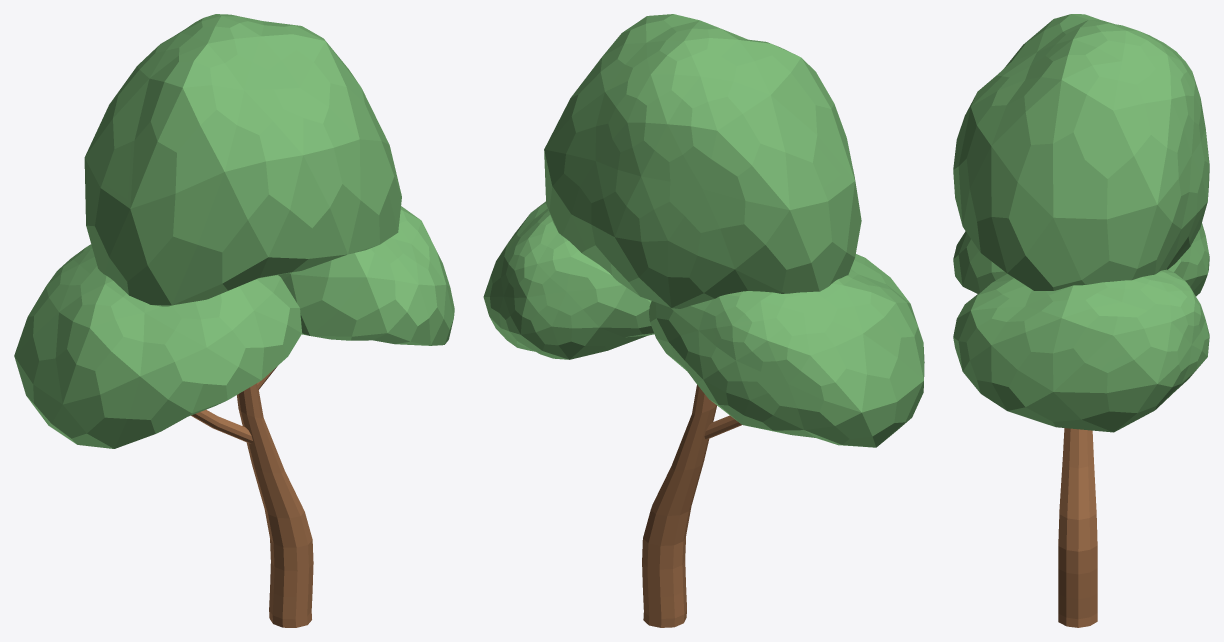
The model's file is Tree2.glb.
The picture shows the model from 3 angles, left to right: view 1: azimuth 30°, elevation 25°; view 2: azimuth 150°, elevation 25°; view 3: azimuth 270°, elevation 25°; orthographic projection. The views are drawn at different scales.
Visible parts, largest first — view 1: Tree2; view 2: Tree2; view 3: Tree2.
Part boxes in pixels (x1=…): Tree2: x1=14, y1=14, x2=454, y2=627; Tree2: x1=483, y1=14, x2=924, y2=627; Tree2: x1=953, y1=14, x2=1209, y2=627.
Bounding box in the file's own units: 3.73 × 5.57 × 2.26.
